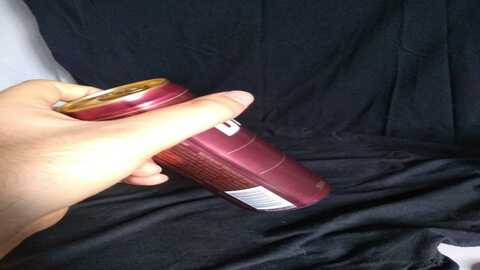duplo_malte: (108, 79, 334, 216)
